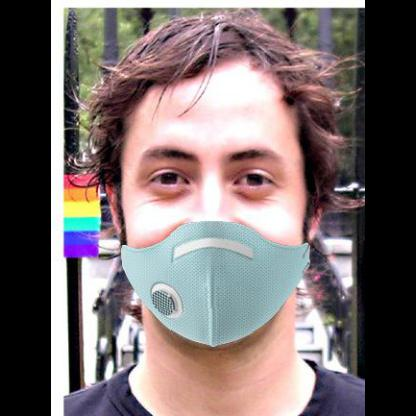FFP Mask: (104, 85, 310, 341)
